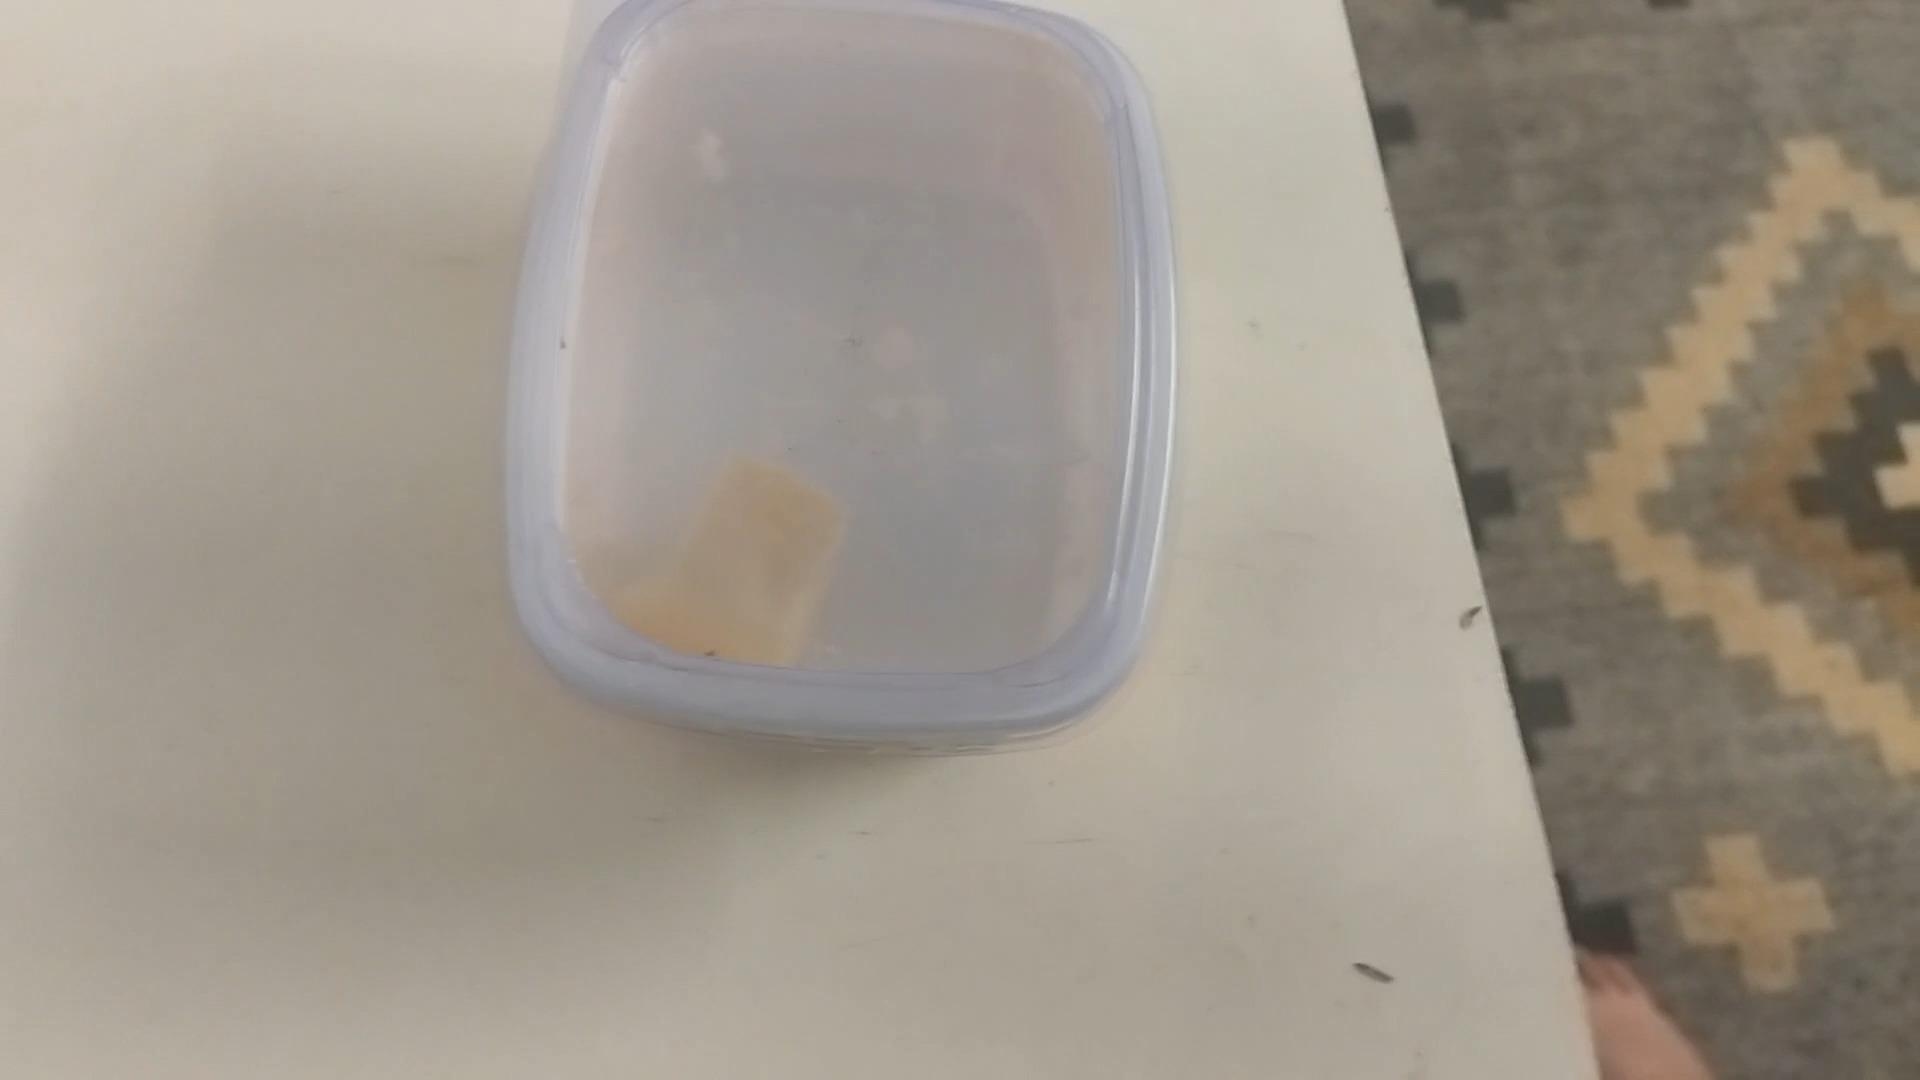butter: (506, 1, 1163, 750)
